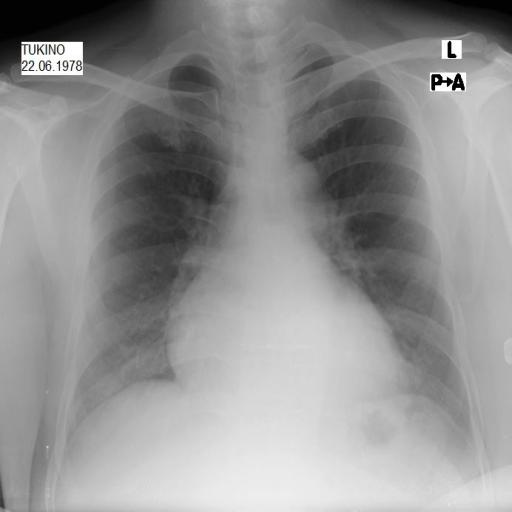kardiomegali: (58, 20, 494, 494)
